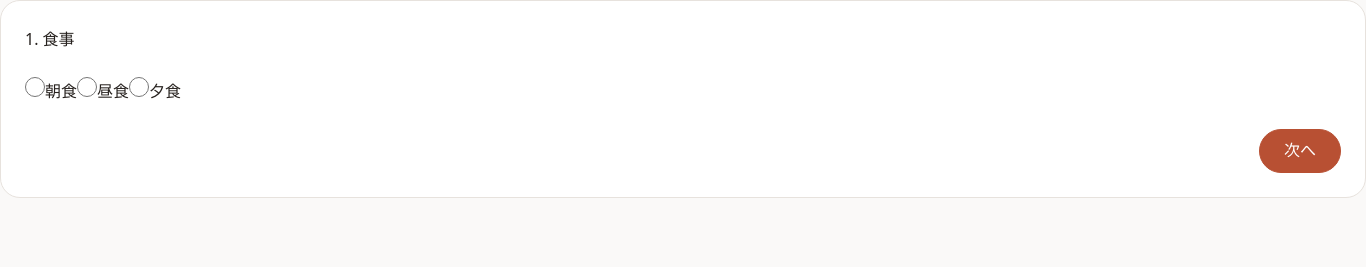
Scenario: MealStep incomplete UX › meal incomplete with suppressValidationToast: alert+focus only, no status toast
Click the button "次へ". click: coordinates (1300, 151)
box: [1259,129,1341,173]
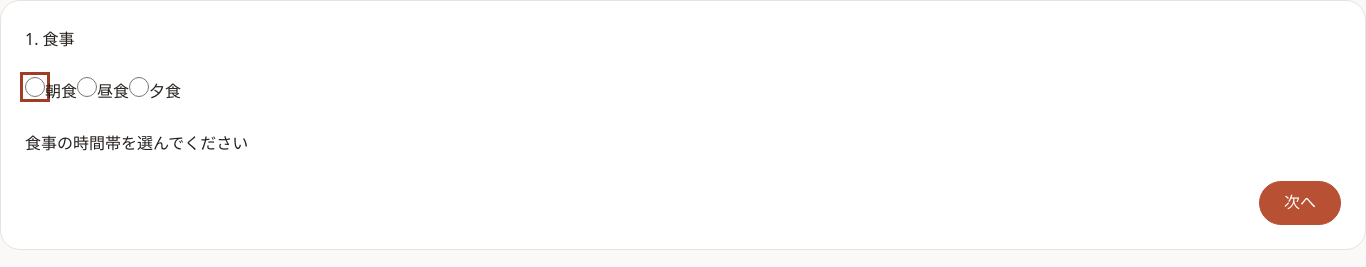
Now the message "食事の時間帯を選んでください" is shown, box [25,132,248,154]
